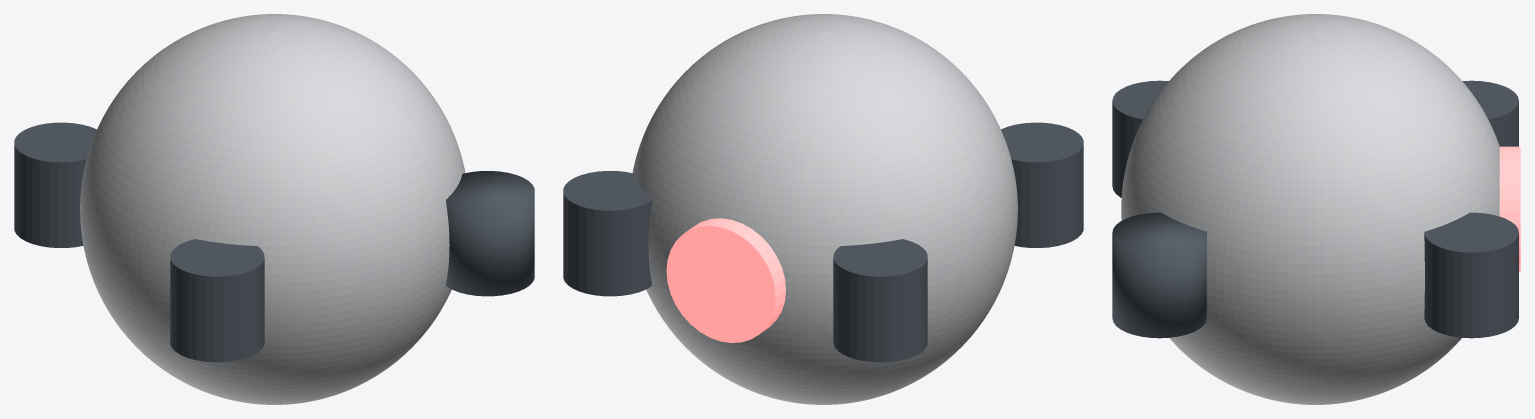
File: scifi_drone_bot.glb
3 views of the same model, side by side, from view 1: azimuth 30°, elevation 25°; view 2: azimuth 150°, elevation 25°; view 3: azimuth 270°, elevation 25° (orthographic).
Visible parts, largest first — view 1: Sphere, Cylinder.003, Cylinder.004, Cylinder.002; view 2: Sphere, Cylinder, Cylinder.002, Cylinder.001, Cylinder.003; view 3: Sphere, Cylinder.004, Cylinder.001, Cylinder.003, Cylinder.002, Cylinder.
Boxes of the visible parts, x1,y1,x2,y2 form: Sphere: [80, 14, 465, 404]; Cylinder.003: [170, 239, 264, 362]; Cylinder.004: [446, 171, 534, 296]; Cylinder.002: [14, 122, 96, 247]; Sphere: [632, 14, 1017, 404]; Cylinder: [666, 218, 785, 342]; Cylinder.002: [833, 239, 927, 362]; Cylinder.001: [563, 171, 651, 296]; Cylinder.003: [1001, 122, 1083, 247]; Sphere: [1121, 14, 1499, 404]; Cylinder.004: [1112, 212, 1206, 338]; Cylinder.001: [1424, 212, 1518, 338]; Cylinder.003: [1112, 80, 1168, 197]; Cylinder.002: [1462, 80, 1518, 146]; Cylinder: [1499, 146, 1520, 272].
Bounding box in the file's own units: 0.516 × 0.4988 × 0.518.
